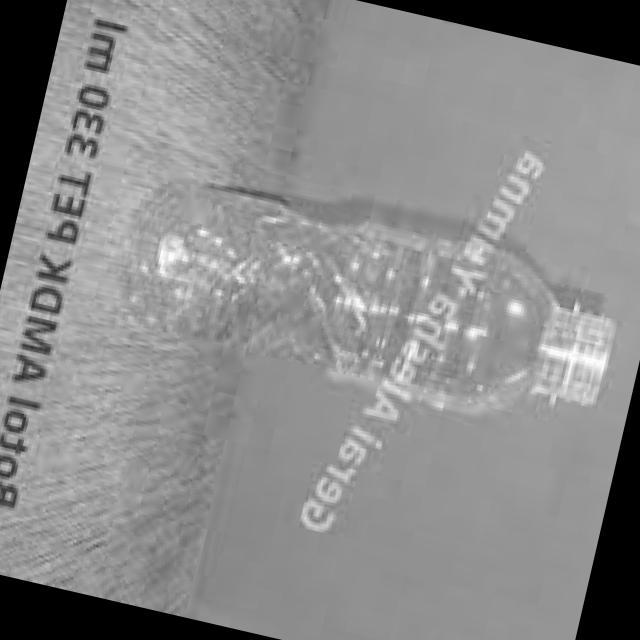good: (106, 152, 631, 438)
